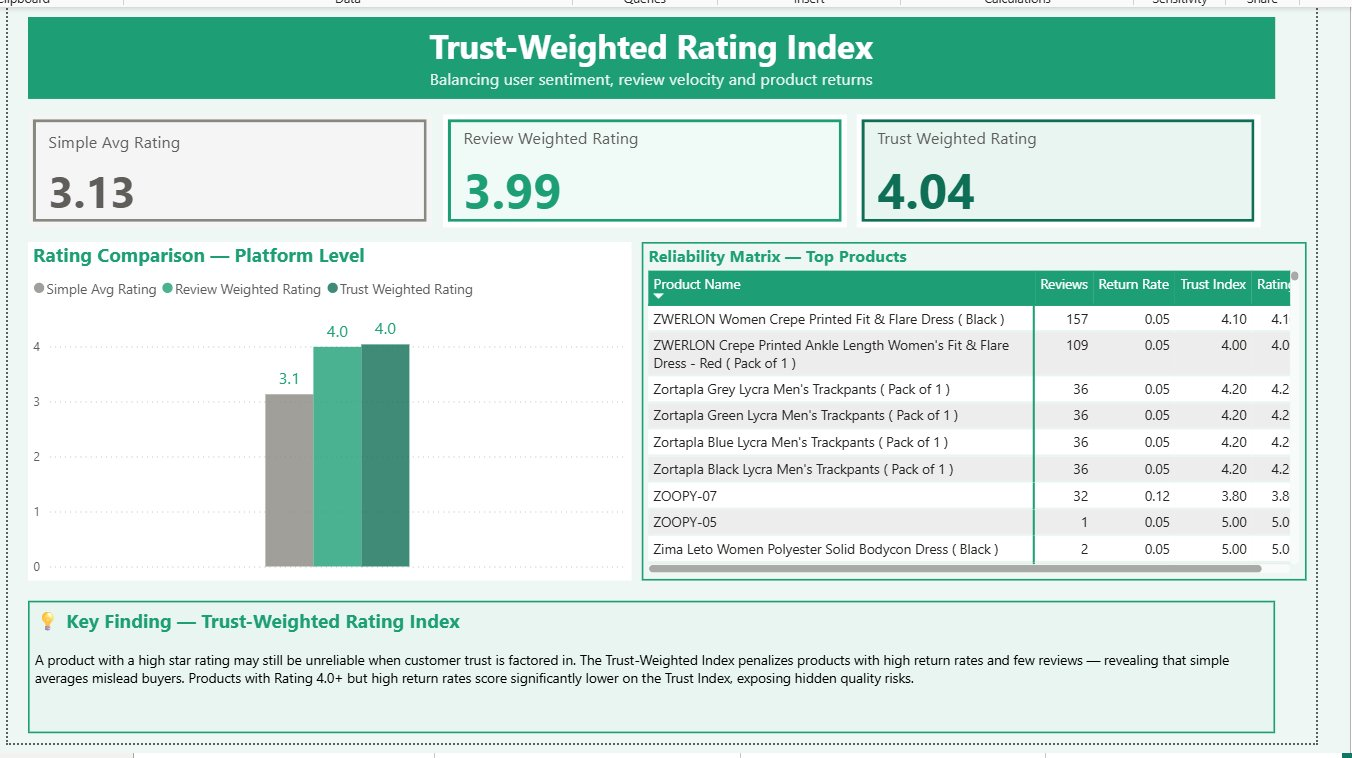

Layout of this report page (visuals, bound fields, positions):
{"tool":"powerbi","page":{"name":"[Page 6] Trust-Weighted Rating Index","canvas":[1280,720],"ordinal":5},"visuals":[{"type":"cardVisual","fields":{"Data":["snapdeal_products.Simple Avg Rating"]},"box":[20,105,395,110],"z":0},{"type":"cardVisual","fields":{"Data":["snapdeal_products.Review Weighted Rating"]},"box":[425,105,395,110.1],"z":1000},{"type":"cardVisual","fields":{"Data":["snapdeal_products.Trust Weighted Rating"]},"box":[830,105,395,110.1],"z":2000},{"type":"clusteredColumnChart","title":"Rating Comparison — Platform Level","fields":{"Y":["snapdeal_products.Simple Avg Rating","snapdeal_products.Review Weighted Rating","snapdeal_products.Trust Weighted Rating"]},"box":[19.6,229.9,590.6,331.4],"z":3000},{"type":"textbox","box":[20,10,1220,80],"z":4000},{"type":"pivotTable","title":"Reliability Matrix — Top Products","fields":{"Rows":["snapdeal_products.Product Name"],"Values":["Sum(snapdeal_products.Reviews Count (listing))","Avg(snapdeal_products.Return Rate)","snapdeal_products.Trust Weighted Rating","Avg(snapdeal_products.Rating (detail))"]},"box":[620,229.9,650.5,331.4],"z":5000},{"type":"textbox","box":[19.6,580.8,1220.4,129.6],"z":6000}]}

Visuals, with their boxes on the page's 1280x720 design canvas (x1, y1, x2, y2). These are canvas units, not pixel positions in the 1352x758 screenshot, which may show the page scaled, cropped or inside an application window:
cardVisual - snapdeal_products.Simple Avg Rating: detection(20, 105, 415, 215)
cardVisual - snapdeal_products.Review Weighted Rating: detection(425, 105, 820, 215)
cardVisual - snapdeal_products.Trust Weighted Rating: detection(830, 105, 1225, 215)
"Rating Comparison — Platform Level" clusteredColumnChart: detection(20, 230, 610, 561)
textbox: detection(20, 10, 1240, 90)
"Reliability Matrix — Top Products" pivotTable: detection(620, 230, 1270, 561)
textbox: detection(20, 581, 1240, 710)
